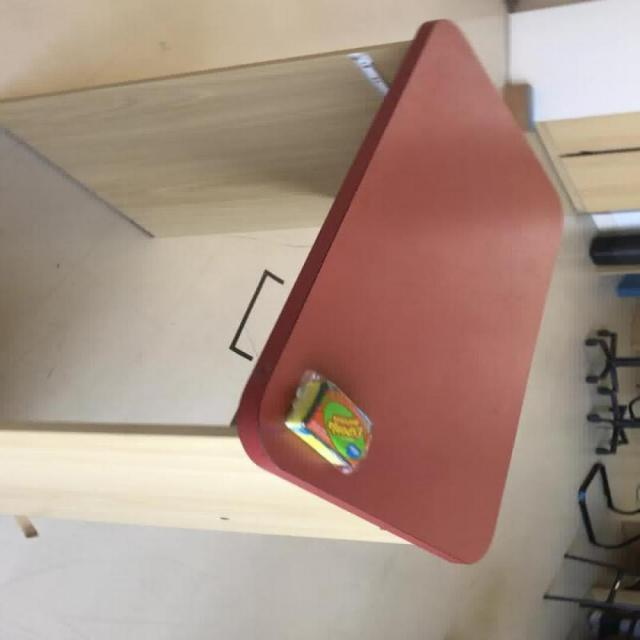Sponge: (281, 368, 373, 475)
